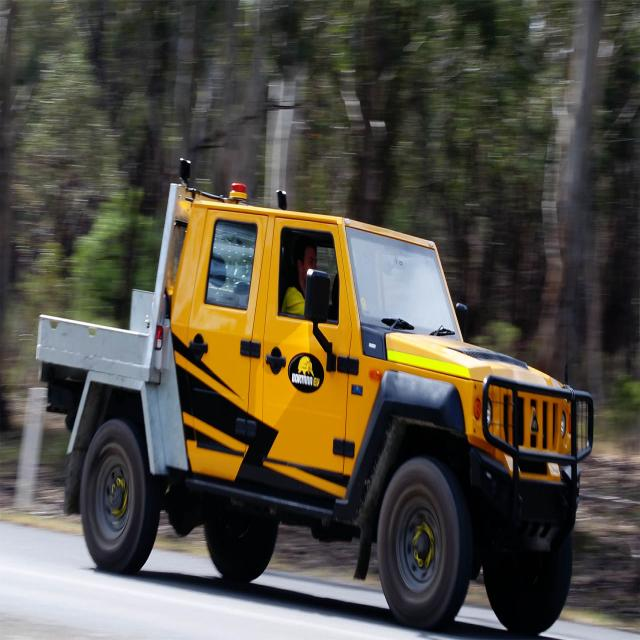light_vehicle: (31, 143, 599, 639)
